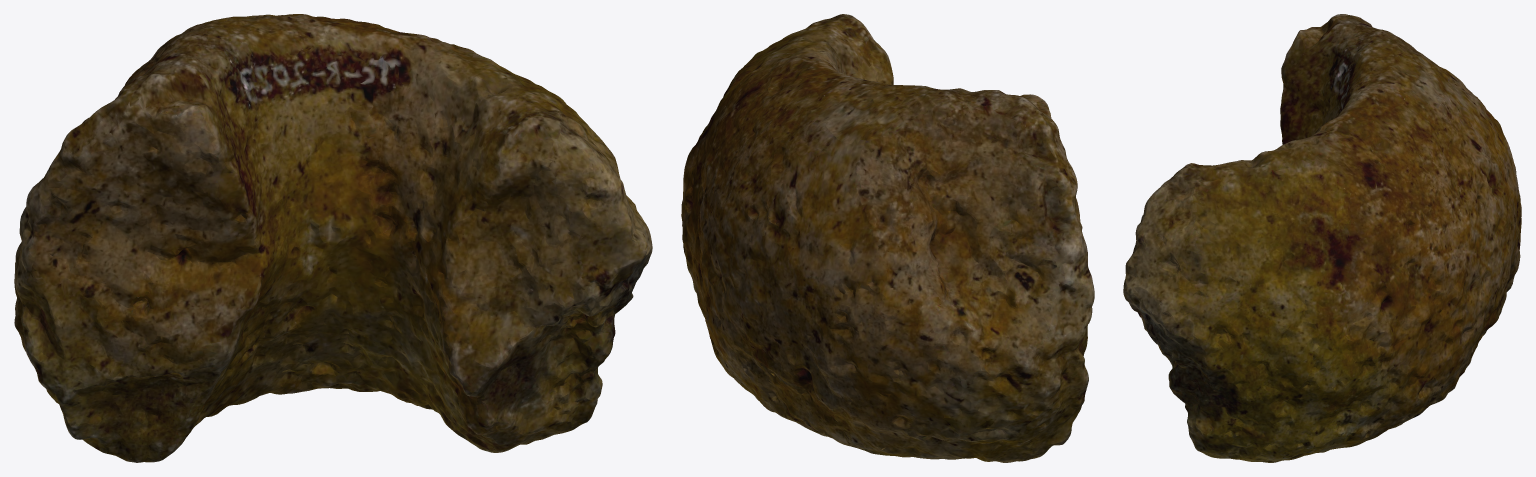
File: LITICA.fbx
The picture shows the model from 3 angles, left to right: view 1: azimuth 30°, elevation 25°; view 2: azimuth 150°, elevation 25°; view 3: azimuth 270°, elevation 25°; orthographic projection. The views are drawn at different scales.
Visible parts, largest first — view 1: LITICA1_LOD00; view 2: LITICA1_LOD00; view 3: LITICA1_LOD00.
Part boxes in pixels (x1=…): LITICA1_LOD00: x1=14, y1=14, x2=652, y2=462; LITICA1_LOD00: x1=681, y1=14, x2=1094, y2=462; LITICA1_LOD00: x1=1123, y1=14, x2=1521, y2=462.
Size of what is drawn, in the model's own units: 67.38 by 52.18 by 56.31.
1 material, 1 textured.
